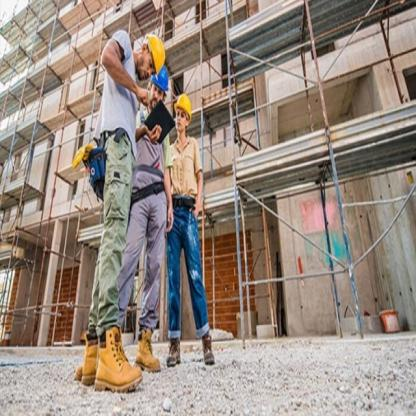bota: (93, 326, 142, 392), (134, 329, 160, 372), (202, 328, 215, 365), (166, 334, 180, 366)
capacete: (138, 34, 166, 82), (148, 64, 168, 112), (174, 93, 192, 131)
